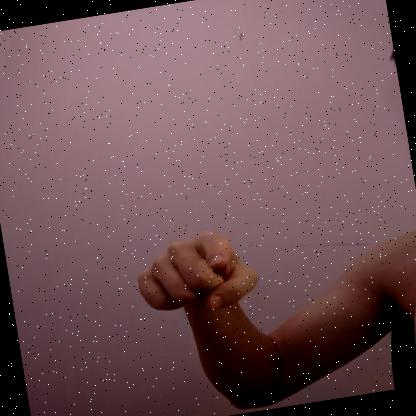Z: (137, 230, 257, 310)
